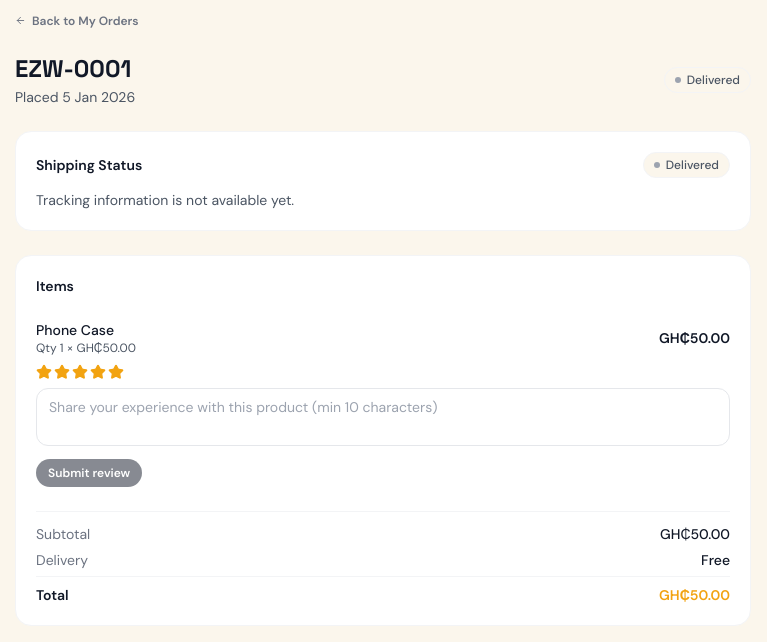
Scenario: Order detail — product review form (T27) › submits a new review and shows the confirmation
This screenshot has width=767, height=642.
Type "Great product, works perfectly!" into the text box with placeholder "Share your experience with this product (min 10 characters)" at {"x": 383, "y": 416}, box [36,388,730,446]
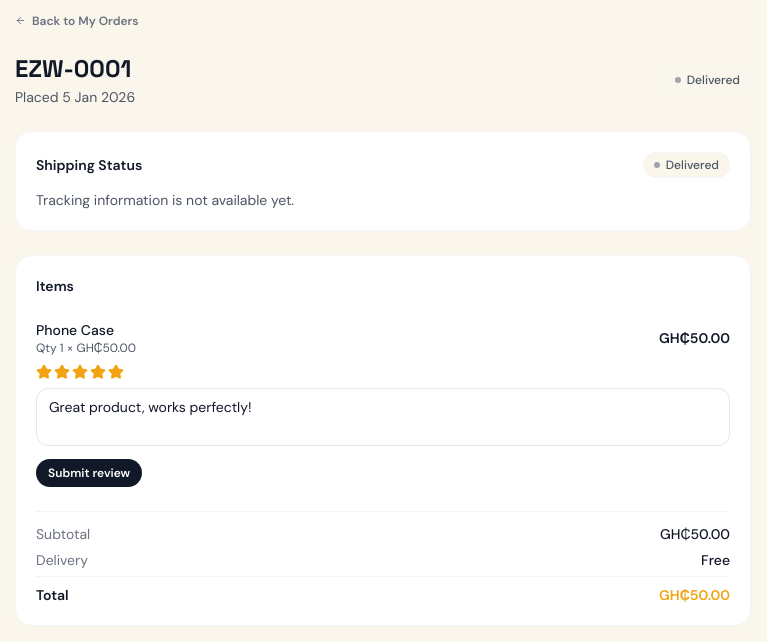
Click the button "Submit review" at {"x": 89, "y": 472}, box [36,458,142,486]
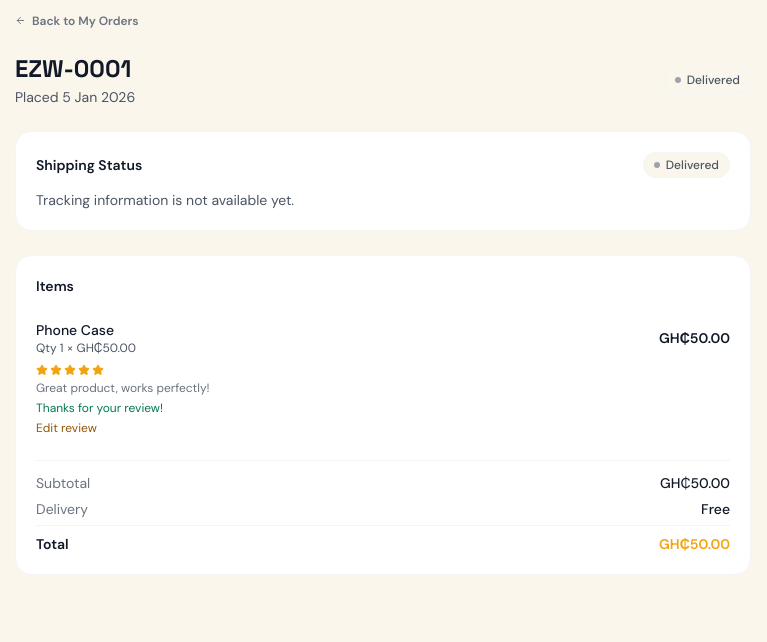
Now the text "Thanks for your review!" is shown, box [36,400,163,416]
